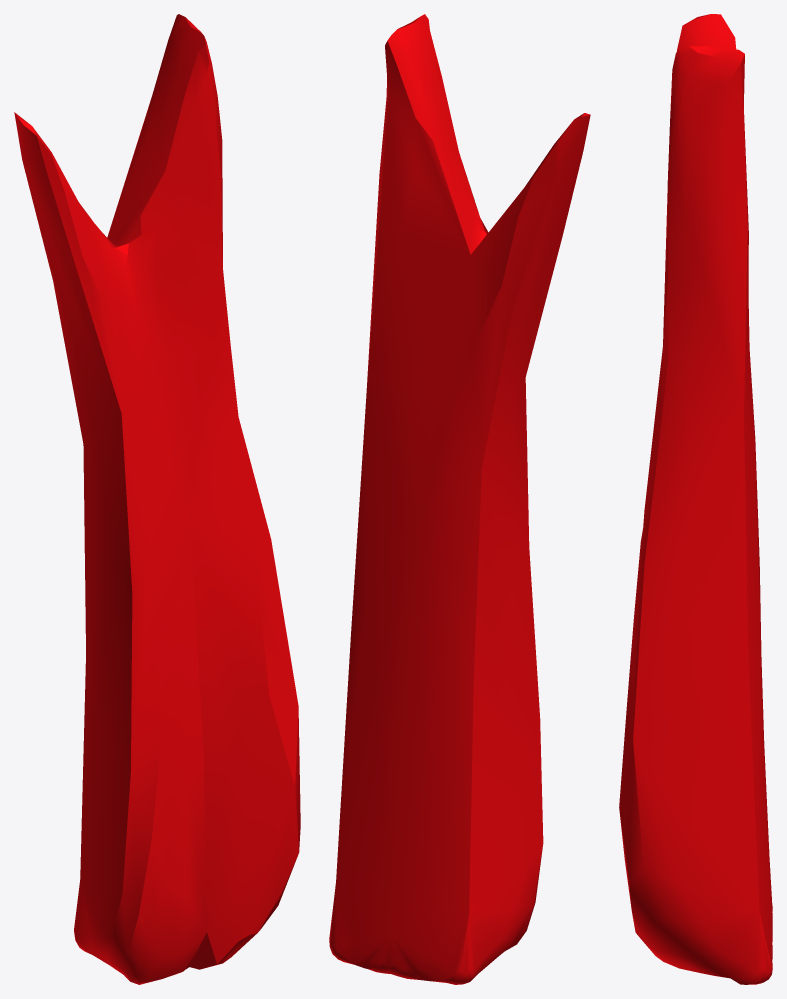
File: Red_Crystal_04.fbx
3 renders of one model, left to right at view 1: azimuth 30°, elevation 25°; view 2: azimuth 150°, elevation 25°; view 3: azimuth 270°, elevation 25°, orthographic.
Parts seen in each view (by area): view 1: Red_Crystal_04; view 2: Red_Crystal_04; view 3: Red_Crystal_04.
Boxes of the visible parts, x1,y1,x2,y2 form: Red_Crystal_04: [14, 14, 300, 984]; Red_Crystal_04: [329, 14, 590, 984]; Red_Crystal_04: [619, 14, 772, 984].
Size of the model in its own units: 2.18 by 7.79 by 1.18.
